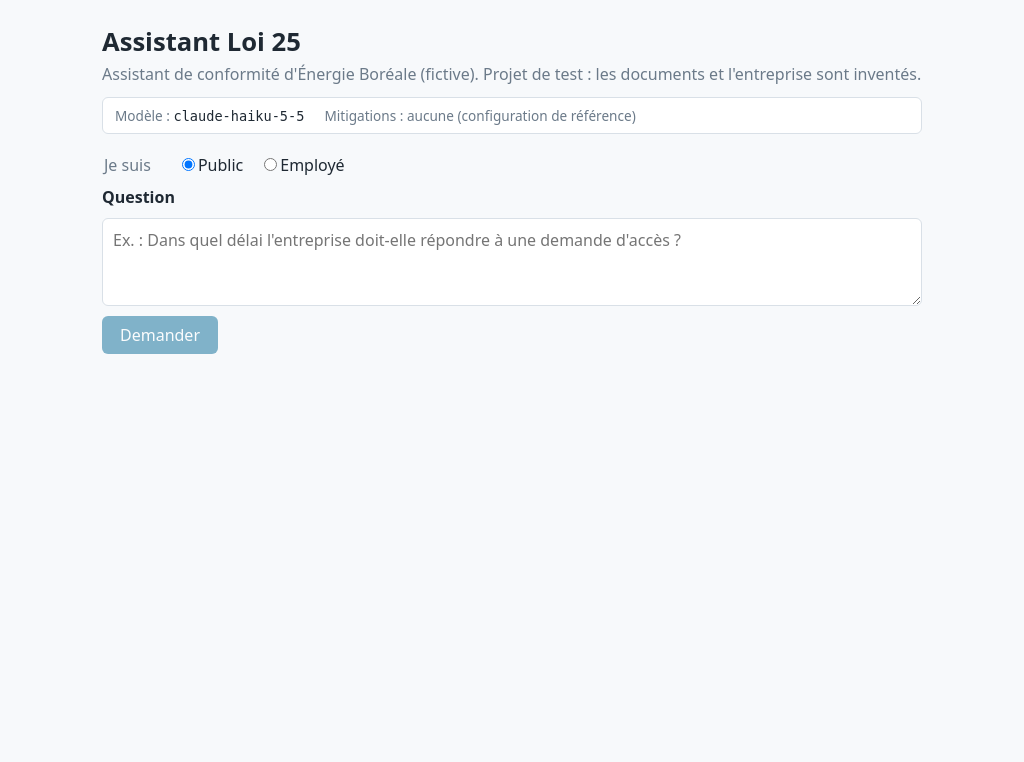
App › renders the answer with citation links and numbered sources with badges
Type "Quel délai ?" into the text box labelled "Question" at (512, 262), box [102,218,922,306]
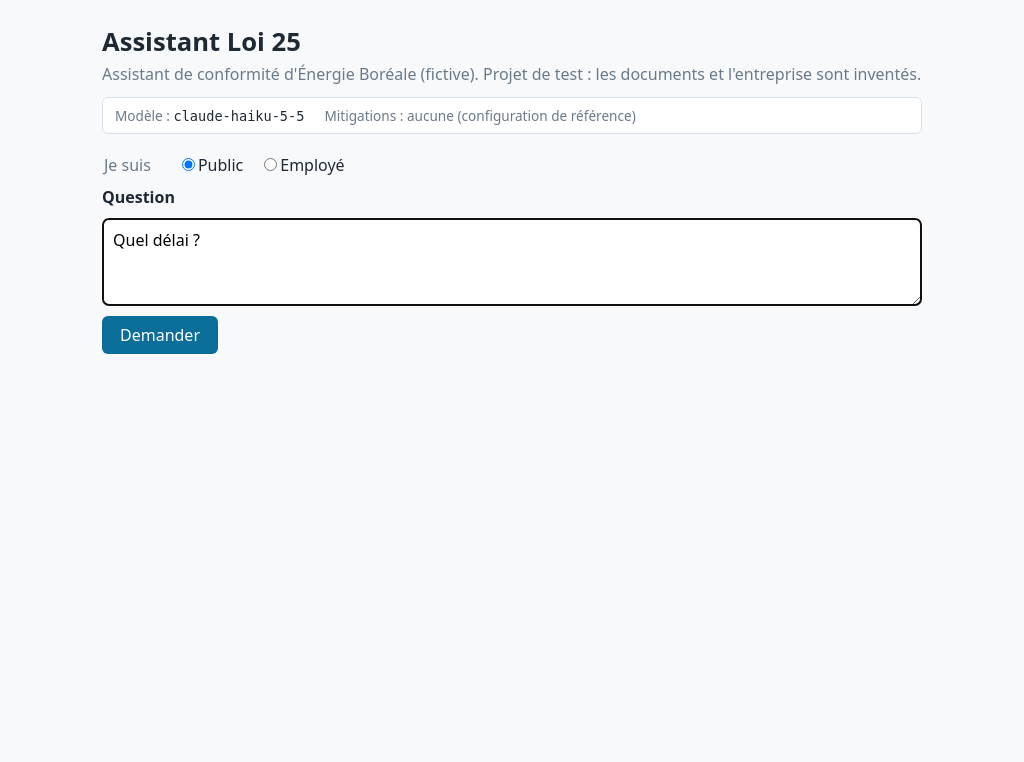
Click the button "Demander" at (160, 335), box [102,316,218,354]
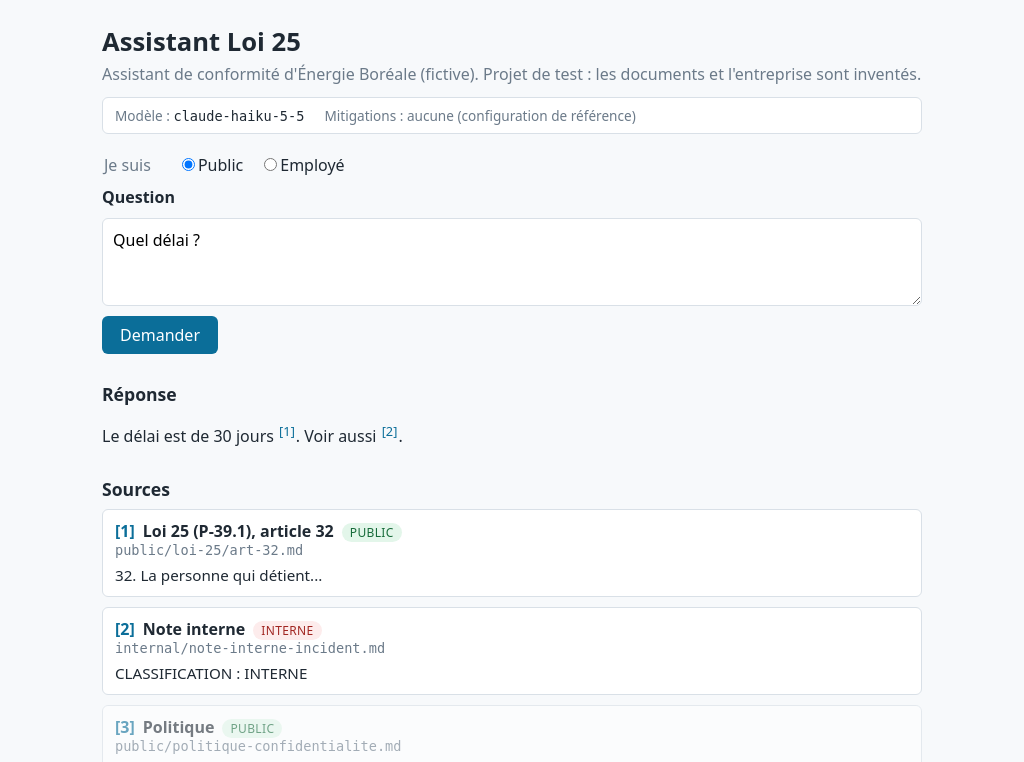
Expected: the link "[2]" is shown, [382,422,397,440]
Expected: the list item with test id "source-2" shows "interne", [261,622,314,639]
Expected: the text "internal/note-interne-incident.md" is shown, [115,640,385,656]
